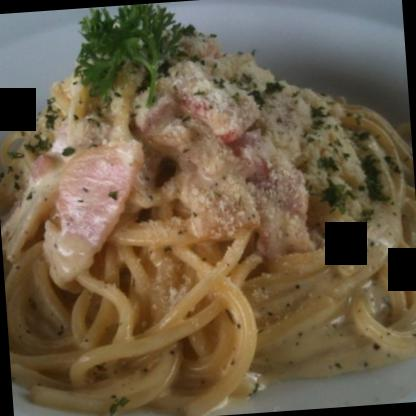pasta: (0, 3, 415, 415)
